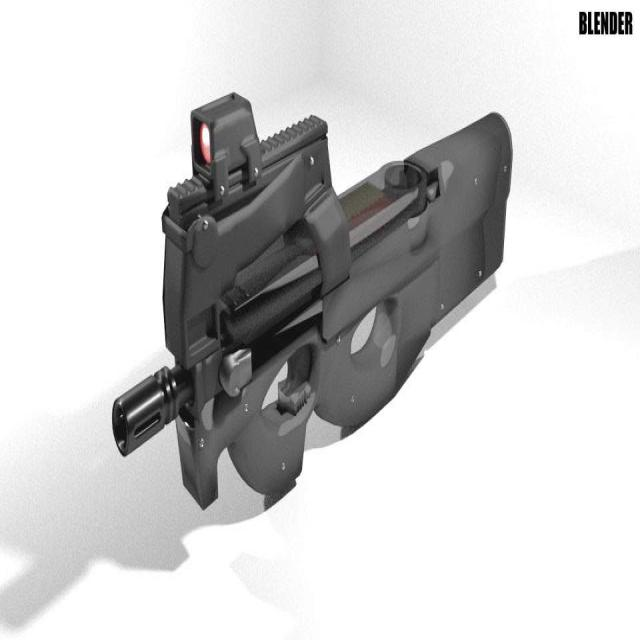SMG: (113, 96, 513, 510)
